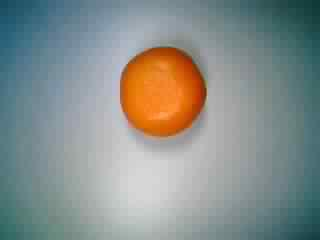orange: (113, 40, 211, 139)
